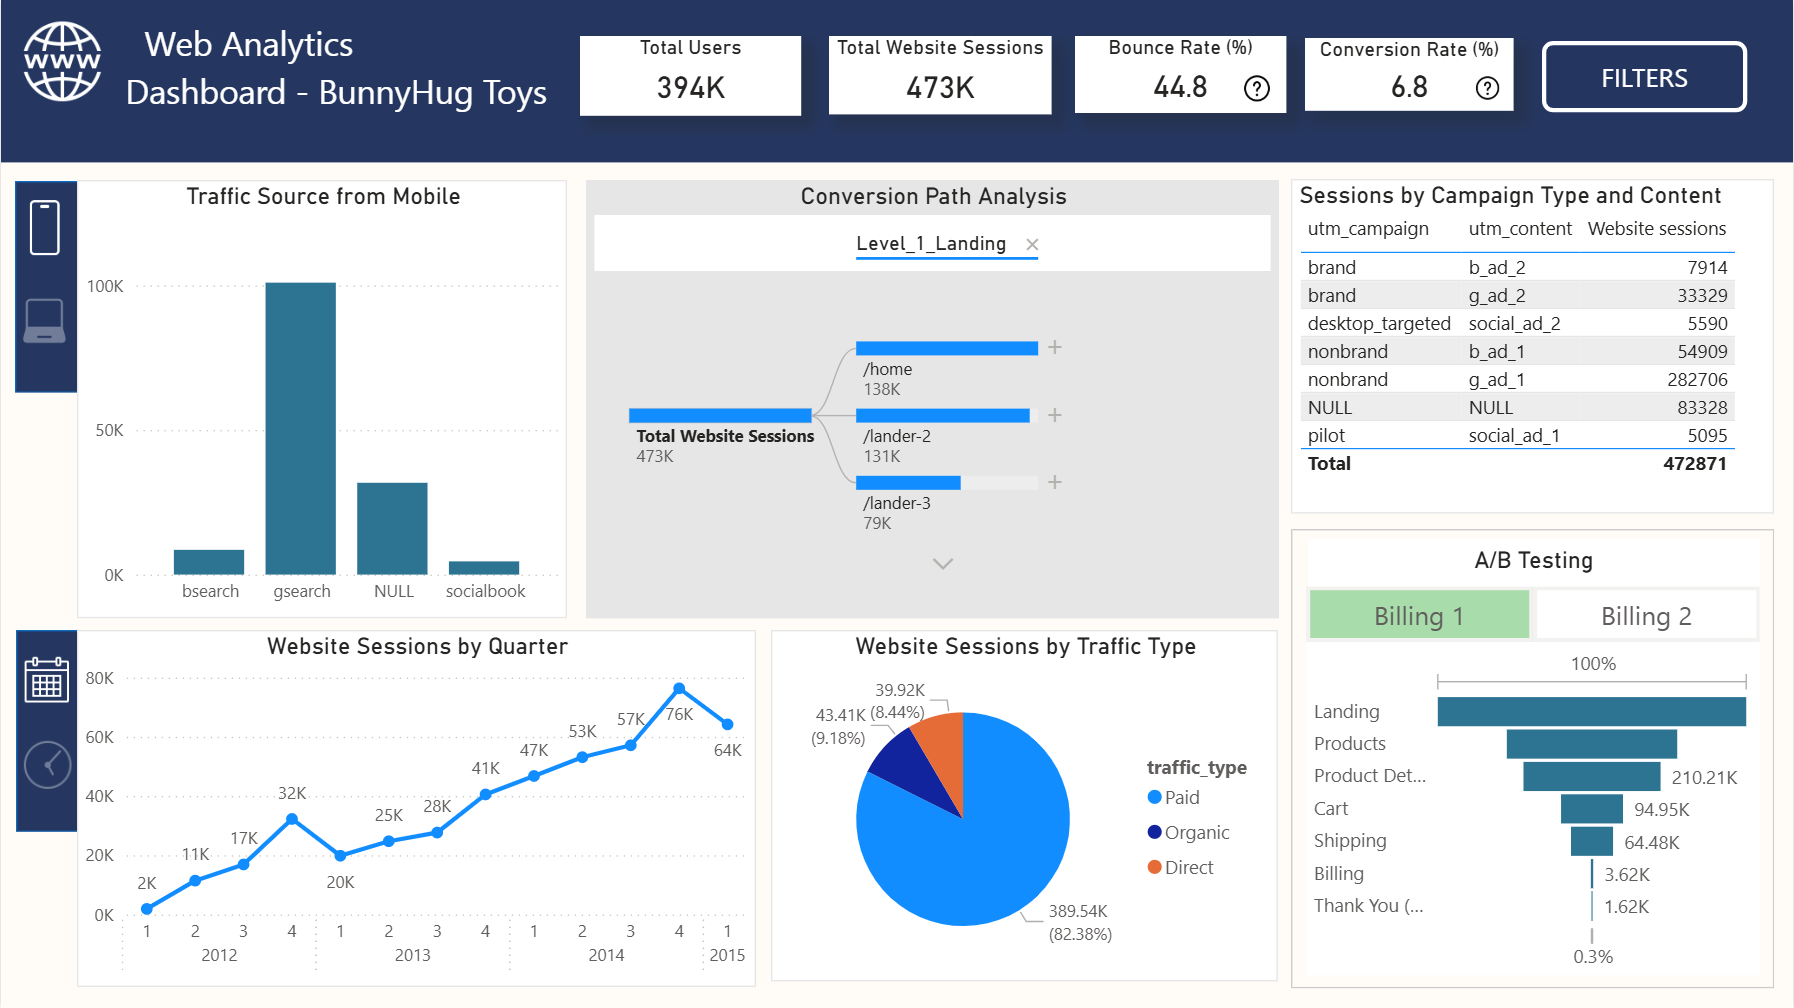

What the dashboard file says about the page in this screenshot:
{"tool":"powerbi","page":{"name":"Website Traffic Dashboard","canvas":[1280,720],"ordinal":0},"visuals":[{"type":"card","title":"Total Website Sessions","fields":{"Values":["CountNonNull(website_sessions.website_session_id)"]},"box":[591.8,26,159.1,56],"z":0,"group":"g2"},{"type":"card","title":"Bounce Rate (%)","fields":{"Values":["calculations.Bounce Rate"]},"box":[767.7,26,150.5,55],"z":0,"group":"g1"},{"type":"card","title":"Conversion Rate (%)","fields":{"Values":["website_sessions.Conversion_Rate"]},"box":[931.7,27.6,148.9,51.8],"z":0,"group":"g3"},{"type":"shape","title":"bar_Shape","box":[9.8,129.8,63.5,151.4],"z":0,"group":"g6"},{"type":"shape","box":[921.6,377.5,345.2,328.1],"z":0,"group":"g5"},{"type":"shape","title":"bar_Shape","box":[10.9,450.2,57.9,144.3],"z":0,"group":"g4"},{"type":"textbox","box":[0,0,1280,115.9],"z":1000},{"type":"group","id":"g1","title":"Bounce rate","box":[767.7,26,151,55],"z":1000,"group":"g2"},{"type":"image","box":[877.8,47.7,40.9,31.7],"z":1000,"group":"g1"},{"type":"image","box":[1038.1,48.6,48.1,30.5],"z":1000,"group":"g3"},{"type":"image","box":[5.7,137.4,51.8,51.4],"z":1000,"group":"g6"},{"type":"lineChart","title":"Website Sessions by Quarter","fields":{"Y":["CountNonNull(website_sessions.website_session_id)"],"Category":["dates.Year","dates.Quarter"]},"box":[54.5,450.2,484.5,255.4],"z":1000,"group":"g4"},{"type":"funnel","title":"Billing 1 Funnel","fields":{"Category":["FunnelSteps.Step"],"Y":["CountNonNull(FunnelSteps.Count)"]},"box":[933.3,458.4,323.7,238.4],"z":1000,"group":"g5"},{"type":"group","id":"g2","title":"Metrics","box":[413.9,26,672.4,57],"z":2000},{"type":"group","id":"g3","title":"Conversion","box":[931.7,27.6,154.6,51.8],"z":2000,"group":"g2"},{"type":"card","title":"transp_Card","fields":{"Values":["calculations.TooltipTrigger"]},"box":[1039.1,48.6,40.3,28.5],"z":2000,"group":"g3"},{"type":"card","fields":{"Values":["calculations.TooltipTrigger"]},"box":[876.6,51.3,42,24.4],"z":2000,"group":"g1"},{"type":"image","box":[10.9,462.7,43.6,48.8],"z":2000,"group":"g4"},{"type":"card","title":"Total Users","fields":{"Values":["Count(website_sessions.user_id)"]},"box":[413.9,26,158.2,57],"z":2500,"group":"g2"},{"type":"lineStackedColumnComboChart","title":"Traffic Source from Mobile","fields":{"Category":["website_sessions.utm_source"],"Y":["CountNonNull(website_sessions.utm_source)"]},"box":[54,129,350.2,312.9],"z":3000,"group":"g6"},{"type":"actionButton","box":[932.1,418.3,162.5,40.1],"z":3000,"group":"g5"},{"type":"group","id":"g4","title":"Website sessions chart","box":[8.1,450.2,531,255.4],"z":3000},{"type":"image","box":[8.1,523.1,50,46.7],"z":3000,"group":"g4"},{"type":"image","box":[10.2,207.4,42.4,43.3],"z":4000,"group":"g6"},{"type":"actionButton","box":[1094.6,418.3,162.5,40.1],"z":4000,"group":"g5"},{"type":"shape","title":"tran_Shape","box":[14.3,202.7,34.1,49.1],"z":5000,"group":"g6"},{"type":"group","id":"g5","title":"Billing Funnel","box":[921.6,377.5,345.2,328.1],"z":5000},{"type":"textbox","box":[933.5,384.5,322.7,33.8],"z":5000,"group":"g5"},{"type":"group","id":"g6","title":"Pagewise revenue/traffic","box":[5.7,128.9,400.4,312.6],"z":6000},{"type":"shape","title":"tran_Shape","box":[15.8,513.6,35.7,64.4],"z":6000,"group":"g4"},{"type":"tableEx","title":"Sessions by Campaign Type and Content","fields":{"Values":["website_sessions.utm_campaign","website_sessions.utm_content","website_sessions.website_session_id"]},"box":[921.6,128.2,345.2,239.2],"z":7000},{"type":"pieChart","title":"Website Sessions by Traffic Type","fields":{"Category":["website_sessions.traffic_type"],"Y":["CountNonNull(website_sessions.website_session_id)"]},"box":[550.2,450.2,362.4,251.4],"z":8000},{"type":"decompositionTreeVisual","title":"Conversion Path Analysis","fields":{"ExplainBy":["Query1.Level_1_Landing","Query1.Level_5_Shipping","Query1.Level_6_Billing","Query1.Level_7_ThankYou","Query1.Level_4_Cart","Query1.Level_3_Details","Query1.Level_2_Products"],"Analyze":["CountNonNull(Query1.website_session_id)"]},"box":[417.5,128.9,495.1,312.6],"z":9000},{"type":"actionButton","title":"Slicer button","box":[1100.6,29.3,146.6,50.9],"z":10000},{"type":"image","box":[8,8,72.4,72.4],"z":12000}]}

Visuals, with their boxes in screenshot pixels (x1, y1, x2, y2), scaled from the page's 1280x720 canvas onto the 1794x1008 screenshot:
"Total Website Sessions" card: 829/36/1052/115
"Bounce Rate (%)" card: 1076/36/1287/113
"Conversion Rate (%)" card: 1306/39/1515/111
"bar_Shape" shape: 14/182/103/394
shape: 1292/528/1775/988
"bar_Shape" shape: 15/630/96/832
textbox: 0/0/1793/162
"Bounce rate" group: 1076/36/1288/113
image: 1230/67/1288/111
image: 1455/68/1522/111
image: 8/192/81/264
"Website Sessions by Quarter" lineChart: 76/630/755/988
"Billing 1 Funnel" funnel: 1308/642/1762/976
"Metrics" group: 580/36/1523/116
"Conversion" group: 1306/39/1523/111
"transp_Card" card: 1456/68/1513/108
card - calculations.TooltipTrigger: 1229/72/1287/106
image: 15/648/76/716
"Total Users" card: 580/36/802/116
"Traffic Source from Mobile" lineStackedColumnComboChart: 76/181/567/619
actionButton: 1306/586/1534/642
"Website sessions chart" group: 11/630/756/988
image: 11/732/81/798
image: 14/290/74/351
actionButton: 1534/586/1762/642
"tran_Shape" shape: 20/284/68/353
"Billing Funnel" group: 1292/528/1775/988
textbox: 1308/538/1761/586
"Pagewise revenue/traffic" group: 8/180/569/618
"tran_Shape" shape: 22/719/72/809
"Sessions by Campaign Type and Content" tableEx: 1292/179/1775/514
"Website Sessions by Traffic Type" pieChart: 771/630/1279/982
"Conversion Path Analysis" decompositionTreeVisual: 585/180/1279/618
"Slicer button" actionButton: 1543/41/1748/112
image: 11/11/113/113
